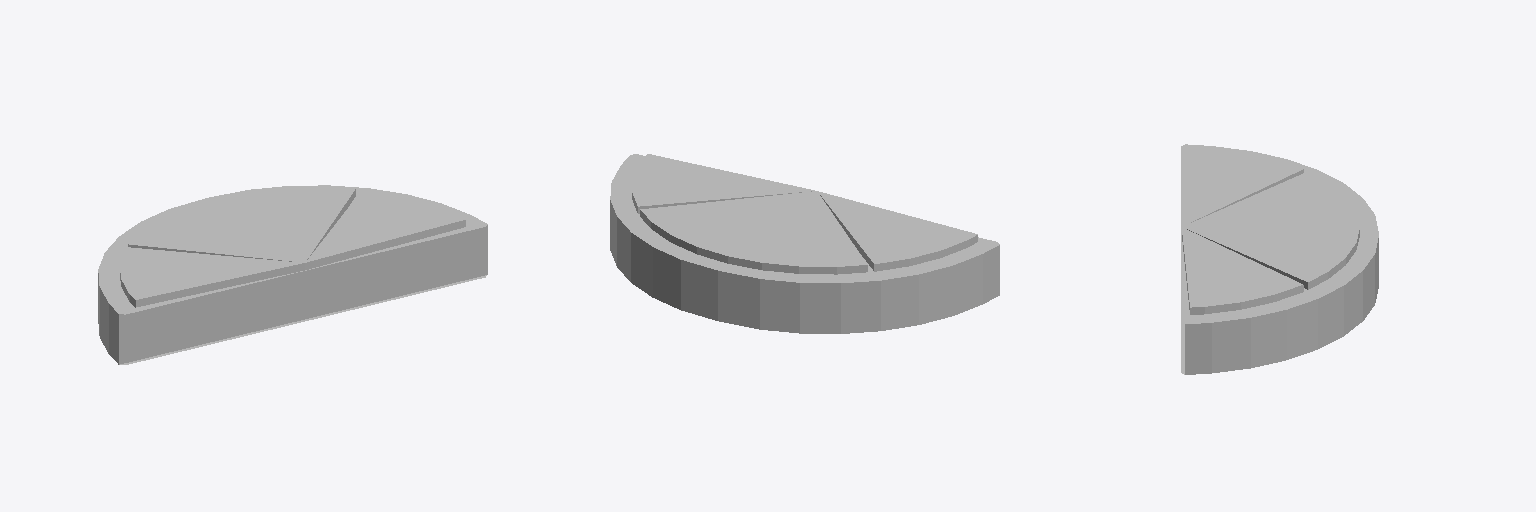
The model's file is Orange Slice 1TEX.obj.
3 views of the same model, side by side, from view 1: azimuth 30°, elevation 25°; view 2: azimuth 150°, elevation 25°; view 3: azimuth 270°, elevation 25° (orthographic).
Visible parts, largest first — view 1: Circle; view 2: Circle; view 3: Circle.
Part boxes in pixels (bbox=[...]): Circle: bbox=[98, 185, 487, 364]; Circle: bbox=[610, 154, 999, 333]; Circle: bbox=[1181, 144, 1378, 374].
Bounding box in the file's own units: 2.05 × 0.309 × 0.9558.